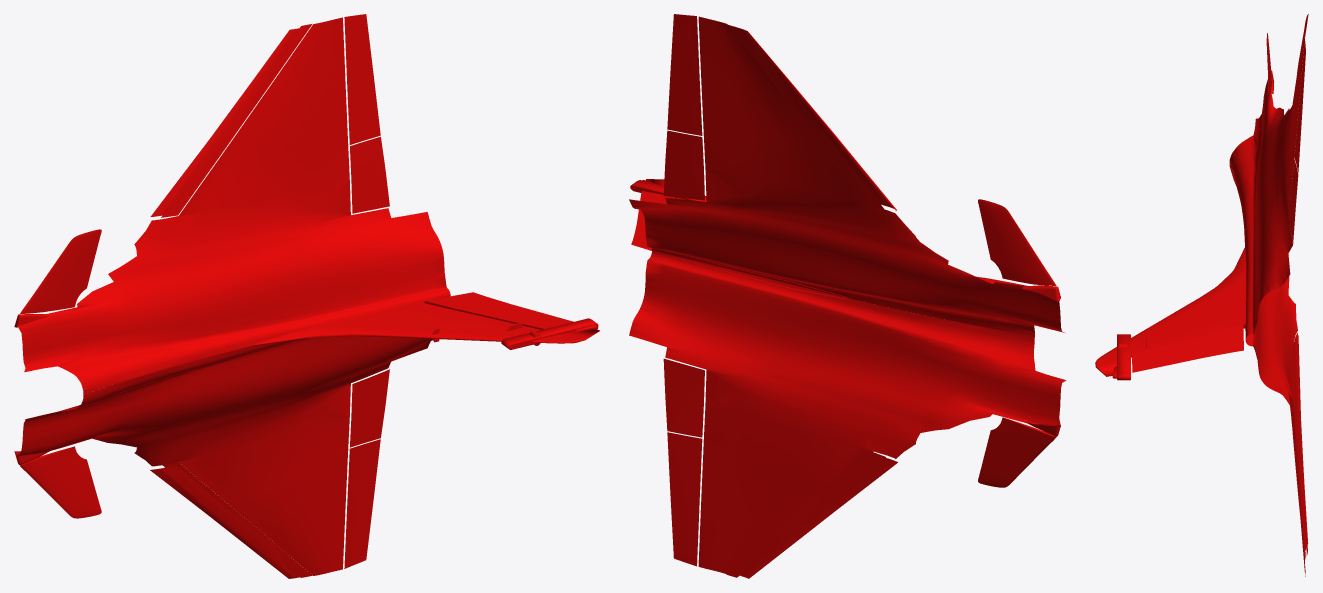
The model's file is rafale_highlight_15.fbx.
The picture shows the model from 3 angles, left to right: view 1: azimuth 30°, elevation 25°; view 2: azimuth 150°, elevation 25°; view 3: azimuth 270°, elevation 25°; orthographic projection. The views are drawn at different scales.
Parts seen in each view (by area): view 1: rafale_highlight_15; view 2: rafale_highlight_15; view 3: rafale_highlight_15.
Part boxes in pixels (bbox=[...]): rafale_highlight_15: bbox=[14, 14, 599, 578]; rafale_highlight_15: bbox=[629, 14, 1066, 578]; rafale_highlight_15: bbox=[1095, 14, 1308, 576].
Size of the model in its own units: 395 by 414 by 150.
